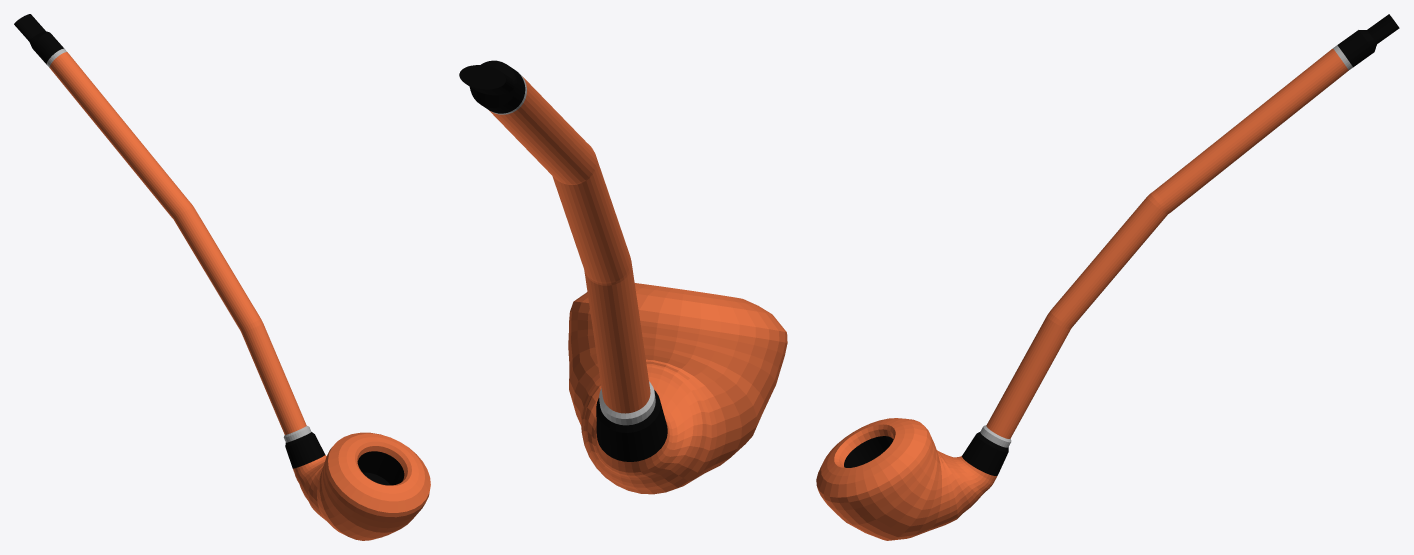
The model's file is TobaccoPipe.fbx.
3 renders of one model, left to right at view 1: azimuth 30°, elevation 25°; view 2: azimuth 150°, elevation 25°; view 3: azimuth 270°, elevation 25°, orthographic. The views are drawn at different scales.
Visible parts, largest first — view 1: Cylinder.002; view 2: Cylinder.002; view 3: Cylinder.002.
Boxes of the visible parts, x1,y1,x2,y2 form: Cylinder.002: [14, 14, 430, 540]; Cylinder.002: [459, 60, 787, 494]; Cylinder.002: [816, 14, 1399, 540].
Size of the model in its own units: 79.59 by 160 by 189.
